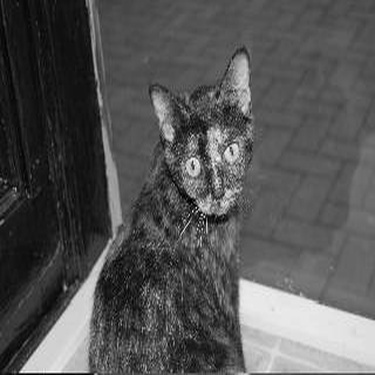cat: (72, 38, 265, 356)
